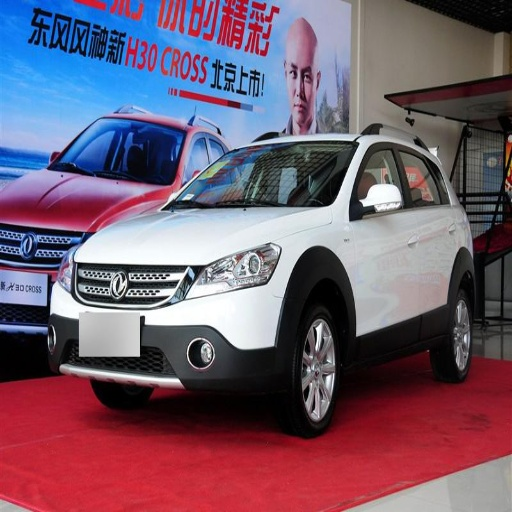front_bumper: (49, 232, 288, 396)
front_glass: (165, 142, 357, 208), (46, 119, 185, 181)
front_left_door: (350, 142, 421, 341)
